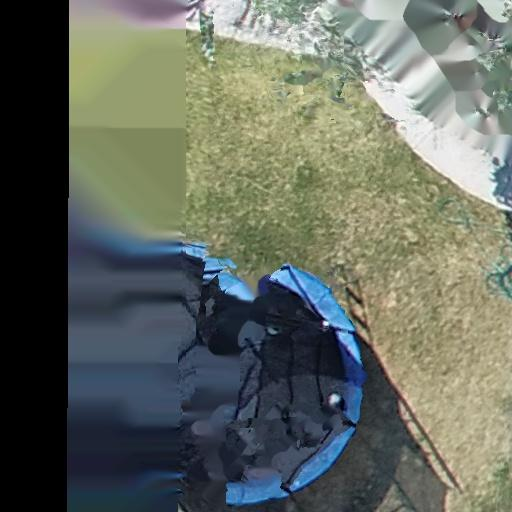stone: (404, 226, 420, 244), (391, 199, 411, 210), (386, 288, 394, 310)
